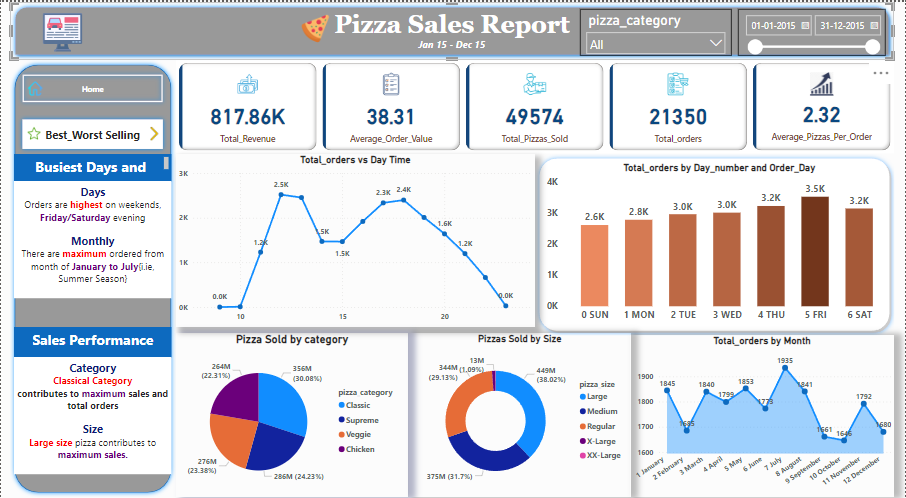

Layout of this report page (visuals, bound fields, positions):
{"tool":"powerbi","page":{"name":"Home","canvas":[1550,850],"ordinal":0},"visuals":[{"type":"cardVisual","fields":{"Data":["projects pizza_sales.Total_Revenue","projects pizza_sales.Average_Order_Value","projects pizza_sales.Total_Pizzas_Sold","projects pizza_sales.Total_orders","projects pizza_sales.Average_Pizzas_Per_Order"]},"box":[300.7,99.5,1231.1,160.5],"z":0},{"type":"shape","box":[16.3,0,1515.5,99.5],"z":1000},{"type":"textbox","box":[631.8,56.9,284.4,42.7],"z":2000},{"type":"image","box":[509.9,12.2,58.9,67],"z":3000},{"type":"shape","box":[916.2,260,615.5,310.8],"z":4000},{"type":"columnChart","fields":{"Y":["projects pizza_sales.Total_orders"],"Category":["projects pizza_sales.Day_number","projects pizza_sales.Order_Day"]},"box":[930.4,274.2,601.3,282.4],"z":5000},{"type":"lineChart","title":"Total_orders vs Day Time","fields":{"Y":["projects pizza_sales.Total_orders"],"Category":["projects pizza_sales.order_Hour"]},"box":[300.7,260,615.5,296.6],"z":6000},{"type":"pieChart","title":"Pizza Sold by category","fields":{"Category":["projects pizza_sales.pizza_category"],"Y":["Sum(projects pizza_sales.pizza_id)"]},"box":[300.7,566.8,398.2,282.4],"z":7000},{"type":"donutChart","title":"Pizzas Sold by Size","fields":{"Category":["projects pizza_sales.pizza_size"],"Y":["Sum(projects pizza_sales.pizza_id)"]},"box":[698.8,566.8,379.9,282.4],"z":8000},{"type":"stackedAreaChart","title":"Total_orders by Month","fields":{"Category":["projects pizza_sales.Month_Number","projects pizza_sales.Month_Name"],"Y":["projects pizza_sales.Total_orders"]},"box":[1078.7,570.8,453,278.3],"z":9000},{"type":"shape","box":[16.3,99.5,284.4,749.6],"z":10000},{"type":"textbox","box":[22.3,260,270.2,46.7],"z":11000},{"type":"textbox","box":[22.3,306.7,270.2,201.1],"z":12000},{"type":"textbox","box":[22.3,556.6,270.2,52.8],"z":13000},{"type":"textbox","box":[22.3,609.4,270.2,201.1],"z":14000},{"type":"pageNavigator","box":[30,193.1,256.4,66.6],"z":15000},{"type":"pageNavigator","box":[30,116.5,256.4,63.3],"z":16000},{"type":"image","box":[41.6,126.5,35,43.3],"z":17000},{"type":"image","box":[238.1,209.8,48.3,33.3],"z":18000},{"type":"image","box":[38.3,209.8,38.3,31.6],"z":19000},{"type":"image","box":[51.6,11.7,106.6,79.9],"z":20000},{"type":"slicer","fields":{"Values":["projects pizza_sales.pizza_category"]},"box":[992.3,11.7,259.7,79.9],"z":21000},{"type":"slicer","fields":{"Values":["projects pizza_sales.order_date"]},"box":[1263.6,11.7,253.1,79.9],"z":22000}]}

Visuals, with their boxes in screenshot pixels (x1, y1, x2, y2), scaled from the page's 1550x850 canvas onto the 906x498 screenshot:
cardVisual - projects pizza_sales.Total_Revenue x projects pizza_sales.Average_Order_Value: [176,58,895,152]
shape: [10,0,895,58]
textbox: [369,33,536,58]
image: [298,7,332,46]
shape: [536,152,895,334]
columnChart - projects pizza_sales.Total_orders x projects pizza_sales.Day_number: [544,161,895,326]
"Total_orders vs Day Time" lineChart: [176,152,536,326]
"Pizza Sold by category" pieChart: [176,332,409,497]
"Pizzas Sold by Size" donutChart: [408,332,631,497]
"Total_orders by Month" stackedAreaChart: [631,334,895,497]
shape: [10,58,176,497]
textbox: [13,152,171,180]
textbox: [13,180,171,298]
textbox: [13,326,171,357]
textbox: [13,357,171,475]
pageNavigator: [18,113,167,152]
pageNavigator: [18,68,167,105]
image: [24,74,45,99]
image: [139,123,167,142]
image: [22,123,45,141]
image: [30,7,92,54]
slicer - projects pizza_sales.pizza_category: [580,7,732,54]
slicer - projects pizza_sales.order_date: [739,7,887,54]
